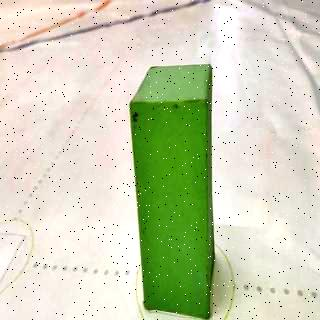greenbox: (128, 62, 214, 320)
